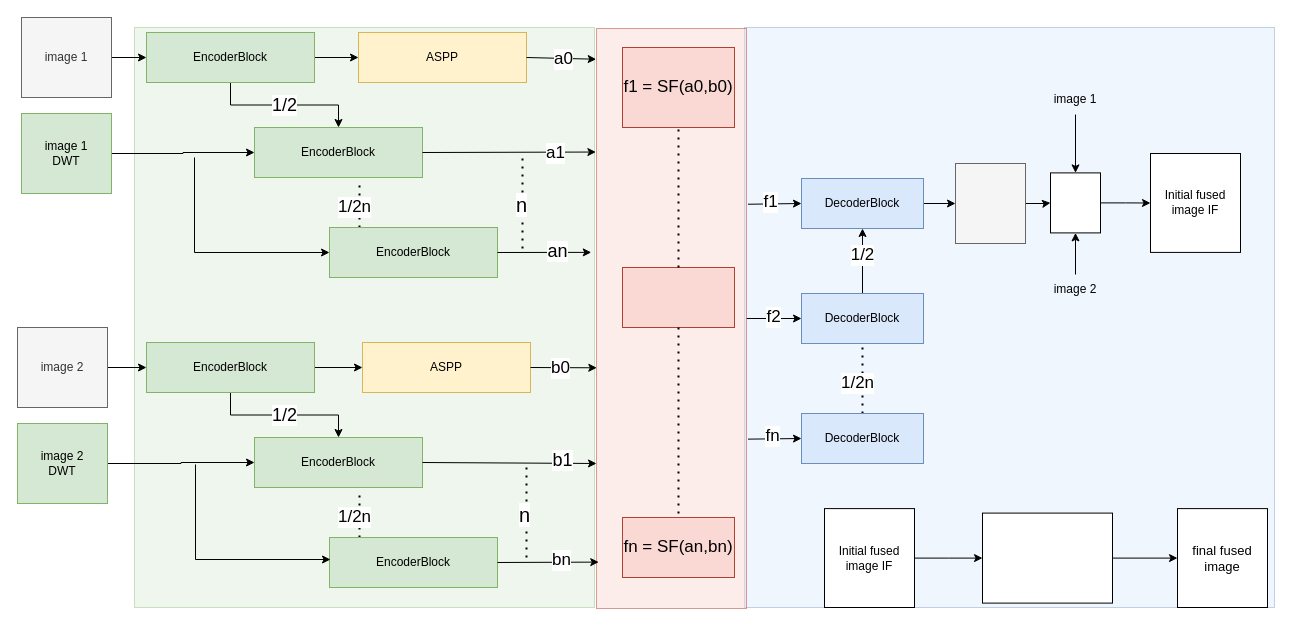
Image size: 1292x626. Some labels were removed from this diagram. The centre of each missing label's shape, as x and y in pixels:
f2 = SF(a1,b1): [678,297]
Focus map: [990,203]
Fusion: [1075,202]
pretrained debluring module: [1047,557]
